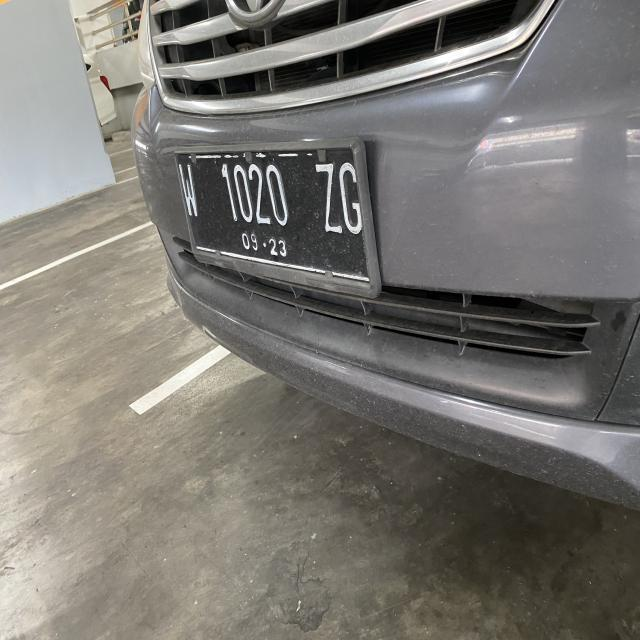0: (264, 164, 292, 226), (232, 164, 255, 224)
1: (216, 162, 238, 227)
2: (248, 161, 268, 227)
G: (340, 158, 362, 238)
W: (176, 162, 202, 217)
Z: (312, 159, 341, 237)
